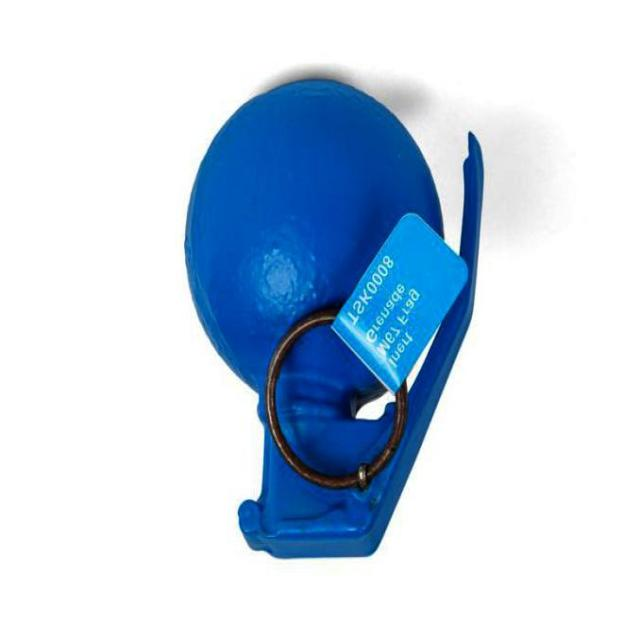grenade: (185, 78, 487, 562)
